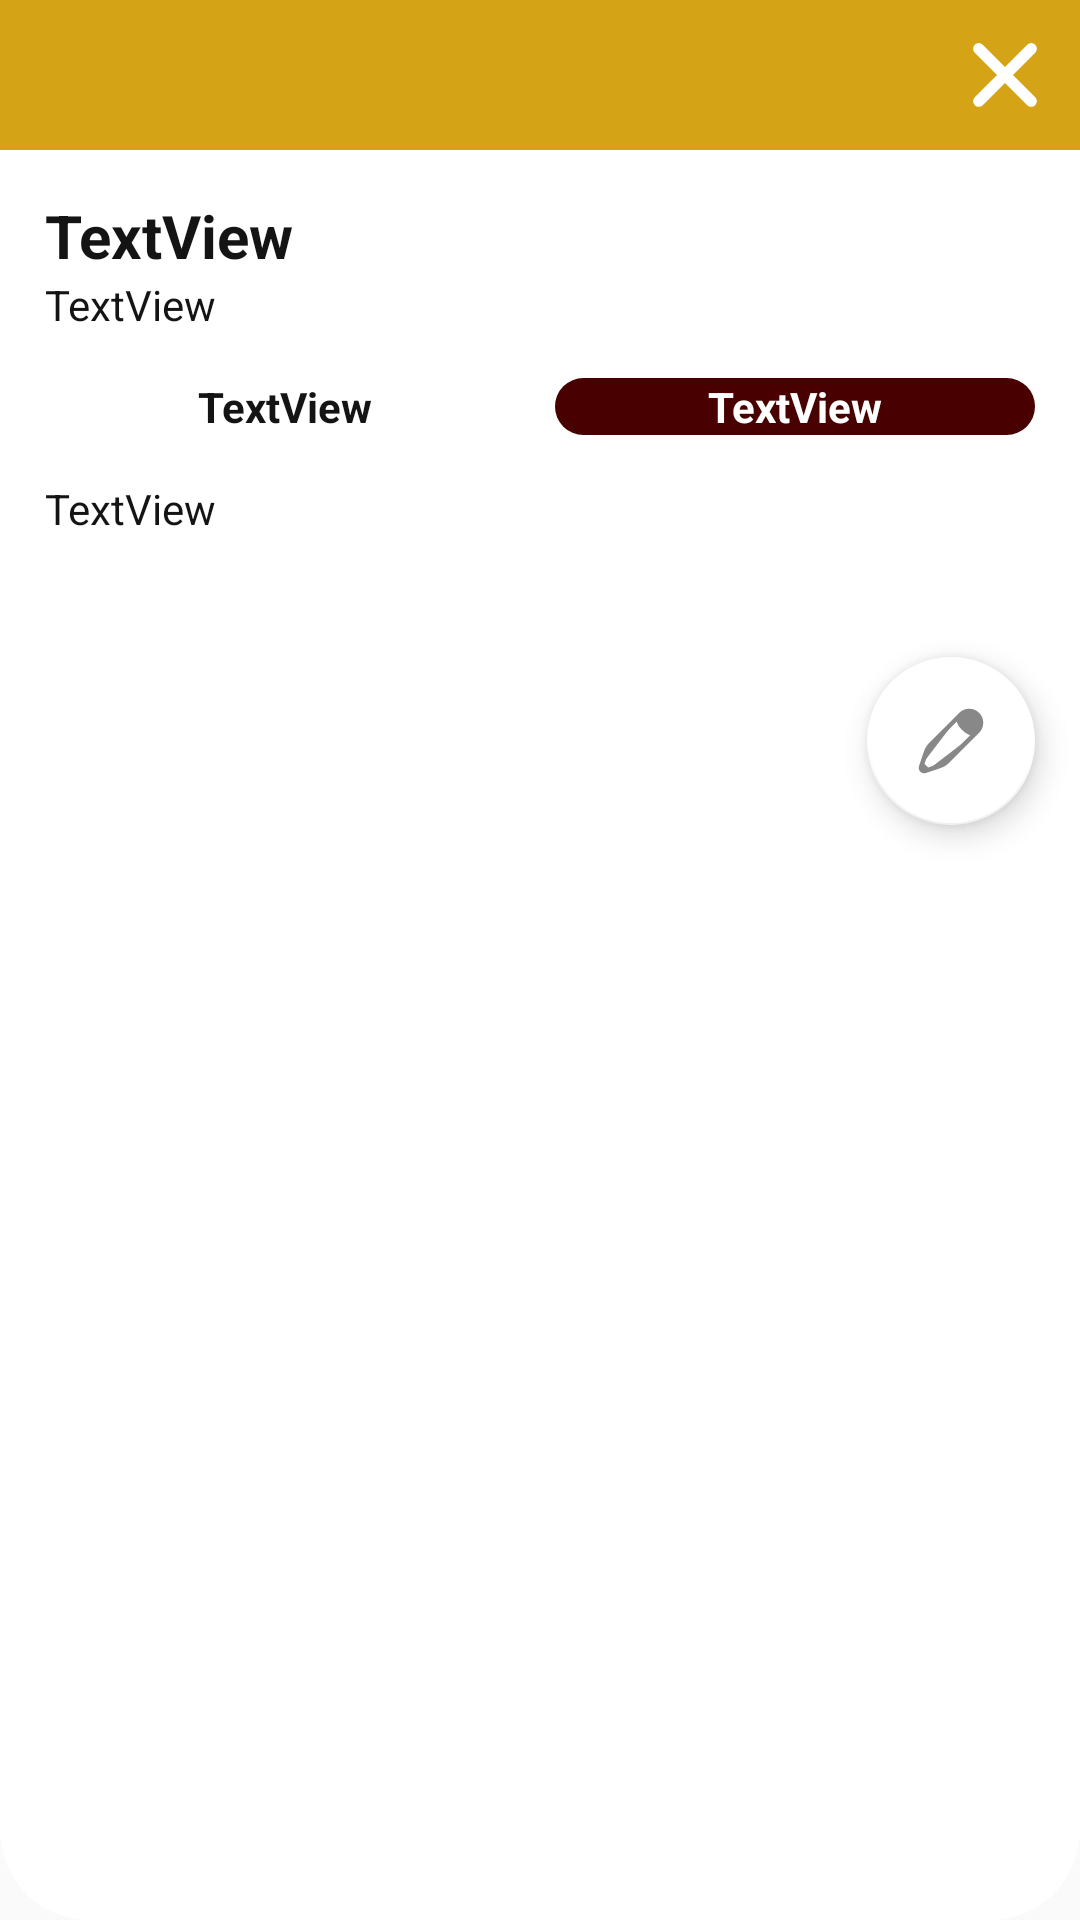

Icons on this 1080x1920 Android screen, each with its box as (x1, y1, x2, y2):
cross: (973, 43, 1037, 107)
edit: (891, 708, 1035, 825)
